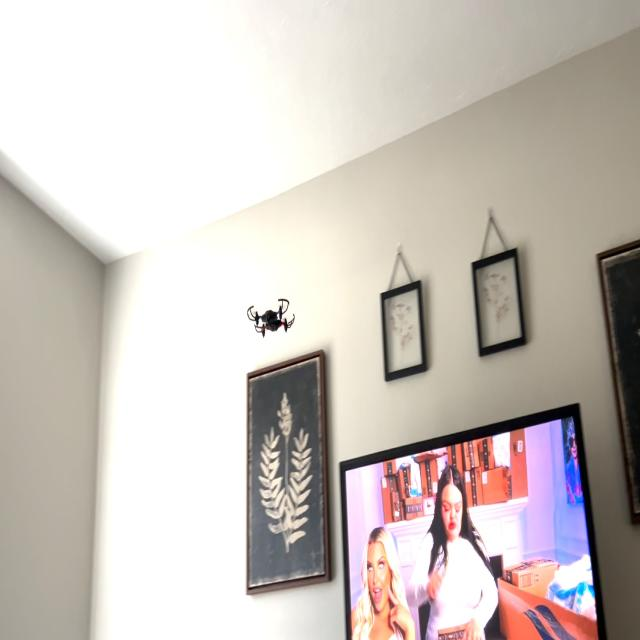drone: (240, 280, 300, 346)
